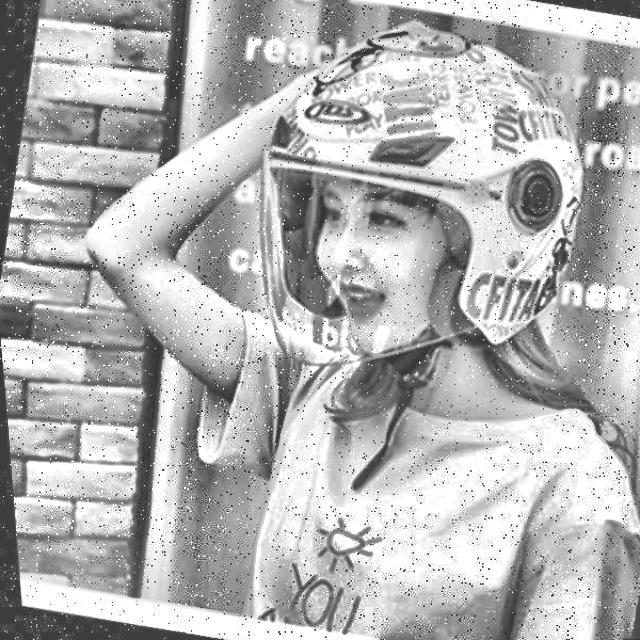Helmet: (190, 0, 630, 438)
